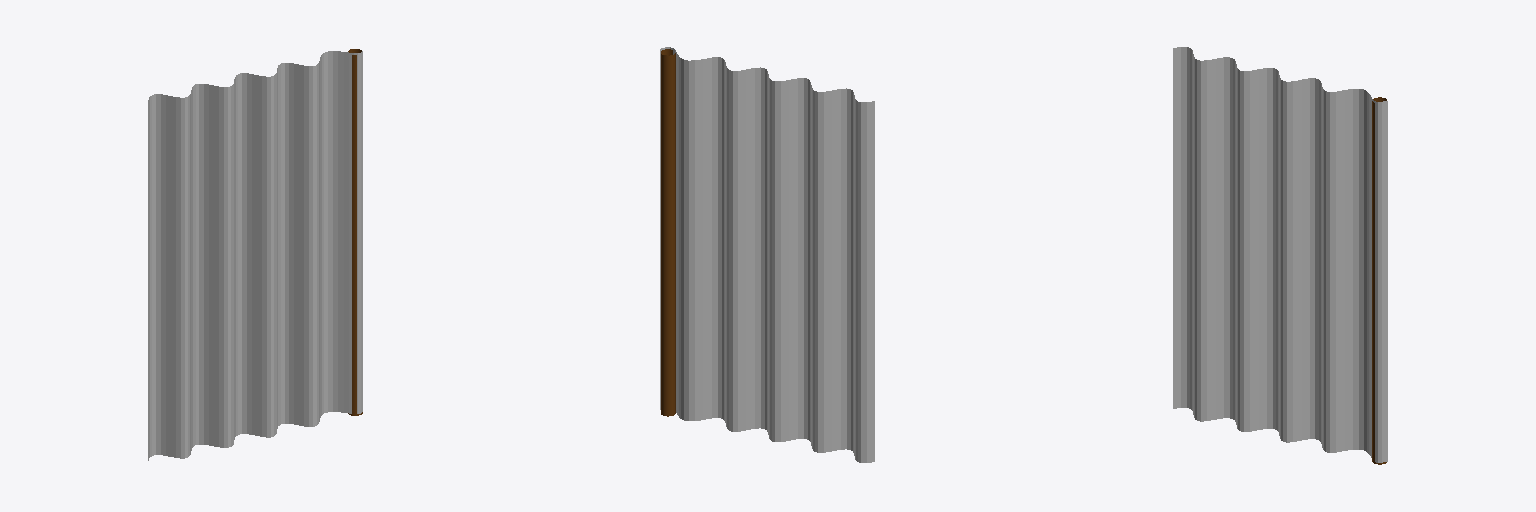
Rendered from baiye.obj.
3 renders of one model, left to right at view 1: azimuth 30°, elevation 25°; view 2: azimuth 150°, elevation 25°; view 3: azimuth 330°, elevation 25°, orthographic.
Visible parts, largest first — view 1: BezierCurve, BezierCircle; view 2: BezierCurve, BezierCircle; view 3: BezierCurve, BezierCircle.
Part boxes in pixels (left/top/right/bottom): BezierCurve: left=148, top=51, right=362, bottom=460; BezierCircle: left=348, top=49, right=362, bottom=415; BezierCurve: left=660, top=47, right=874, bottom=462; BezierCircle: left=661, top=49, right=675, bottom=416; BezierCurve: left=1173, top=47, right=1387, bottom=462; BezierCircle: left=1372, top=97, right=1386, bottom=464.
Bounding box in the file's own units: 9.97 × 16.08 × 0.9212.